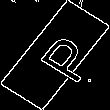P_NW: (19, 26, 91, 84)
